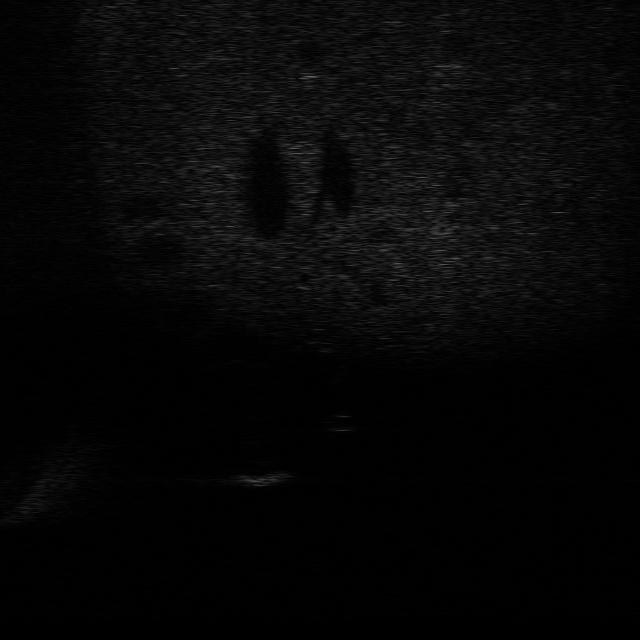ball: (322, 406, 366, 434)
human body: (303, 326, 355, 386)
square cage: (225, 456, 297, 488)
